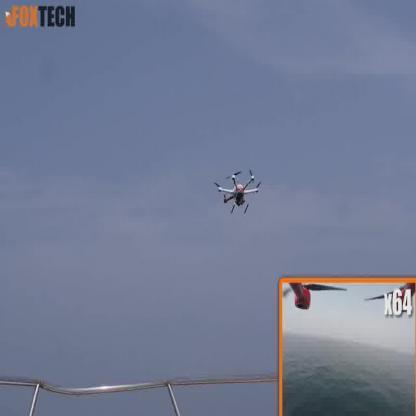drone: (208, 160, 267, 223)
